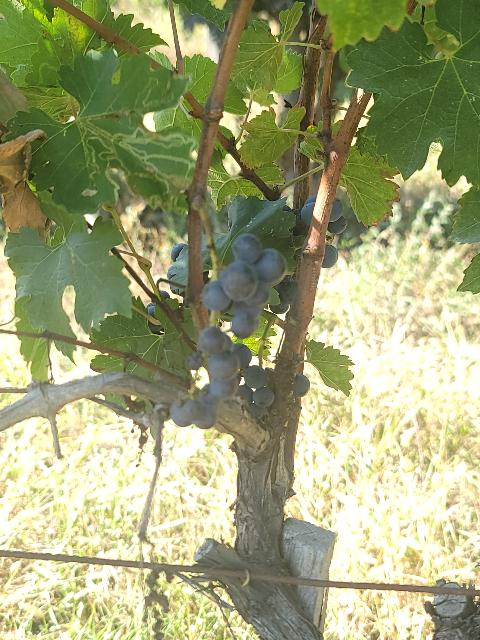grapes: (170, 326, 275, 429), (201, 234, 286, 339)
